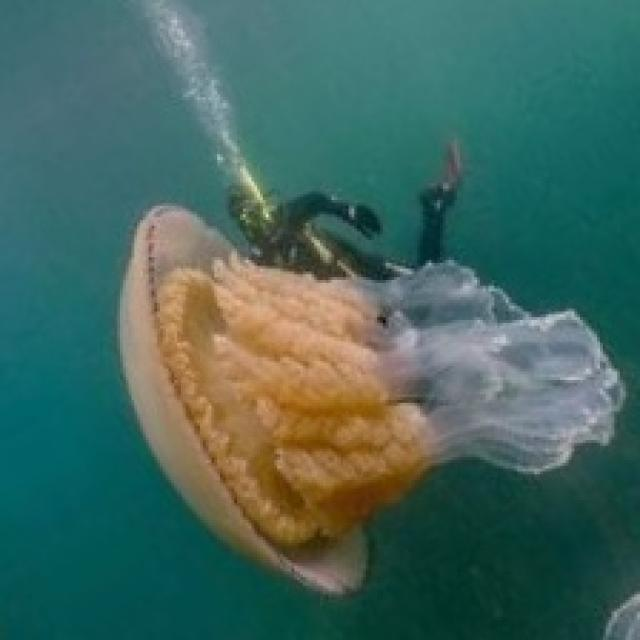Box-jellyfish: (62, 165, 624, 607), (204, 125, 486, 290)
